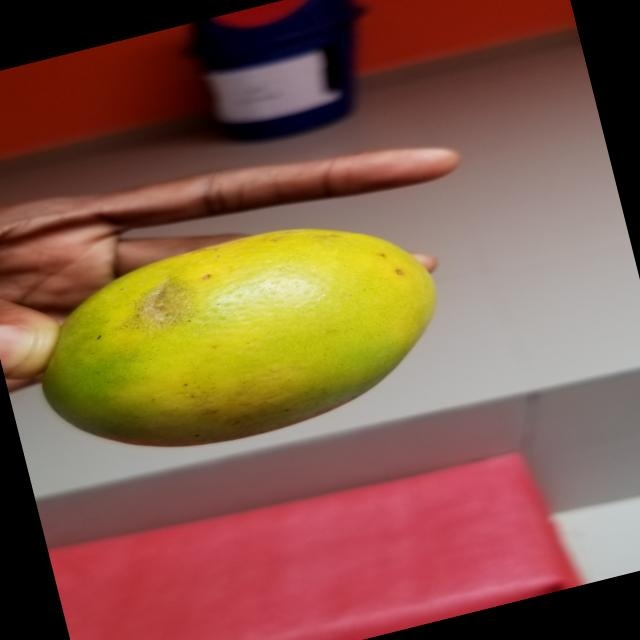agrume: (0, 177, 468, 490)
